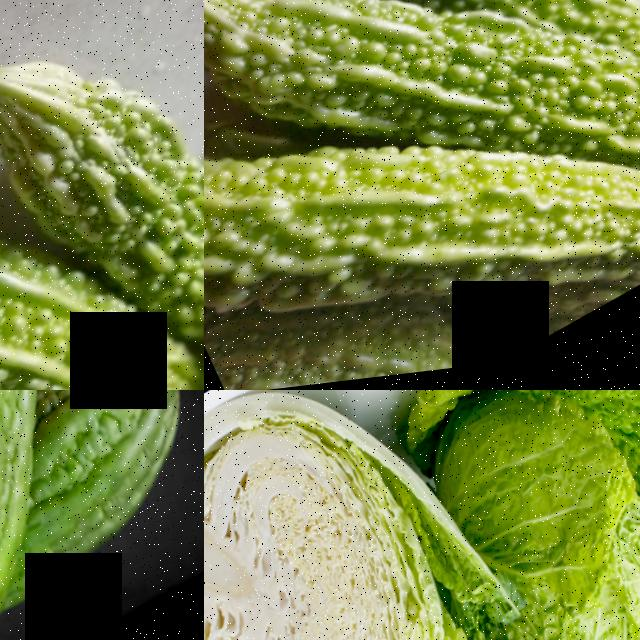bitter gourd: (204, 102, 640, 390), (0, 0, 204, 386), (204, 0, 377, 220), (0, 79, 118, 390), (31, 390, 204, 556)
cabbage: (204, 390, 510, 640), (394, 390, 640, 640)
